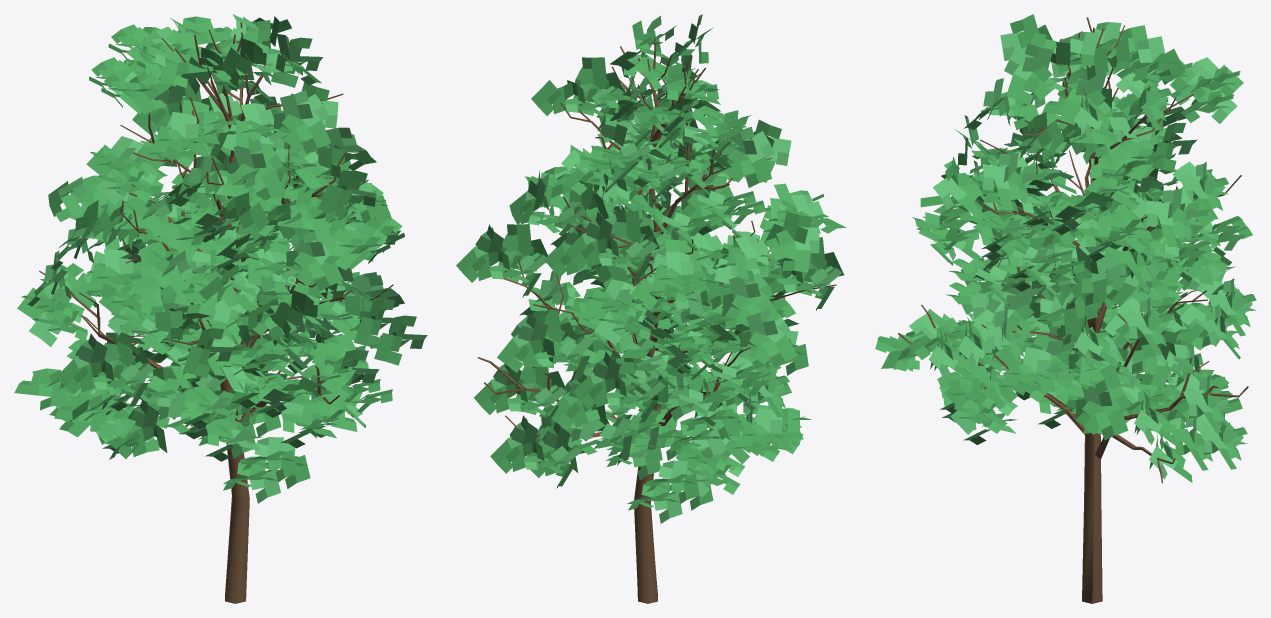
The model's file is prop_tree_oak_detailed.glb.
3 views of the same model, side by side, from view 1: azimuth 30°, elevation 25°; view 2: azimuth 150°, elevation 25°; view 3: azimuth 270°, elevation 25° (orthographic). The views are drawn at different scales.
Visible parts, largest first — view 1: Leaf Oak, Leaf Oak2, Wood - Bark; view 2: Leaf Oak, Leaf Oak2, Wood - Bark; view 3: Leaf Oak, Leaf Oak2, Wood - Bark.
Part boxes in pixels (left/top/right/bottom): Leaf Oak: left=14, top=16, right=416, bottom=490; Leaf Oak2: left=29, top=14, right=427, bottom=503; Wood - Bark: left=39, top=22, right=393, bottom=603; Leaf Oak: left=456, top=14, right=846, bottom=510; Leaf Oak2: left=473, top=15, right=841, bottom=523; Wood - Bark: left=478, top=38, right=836, bottom=603; Leaf Oak: left=875, top=14, right=1256, bottom=482; Leaf Oak2: left=909, top=22, right=1256, bottom=479; Wood - Bark: left=898, top=17, right=1248, bottom=603.
Size of the model in its own units: 5.87 by 9.35 by 5.64.
